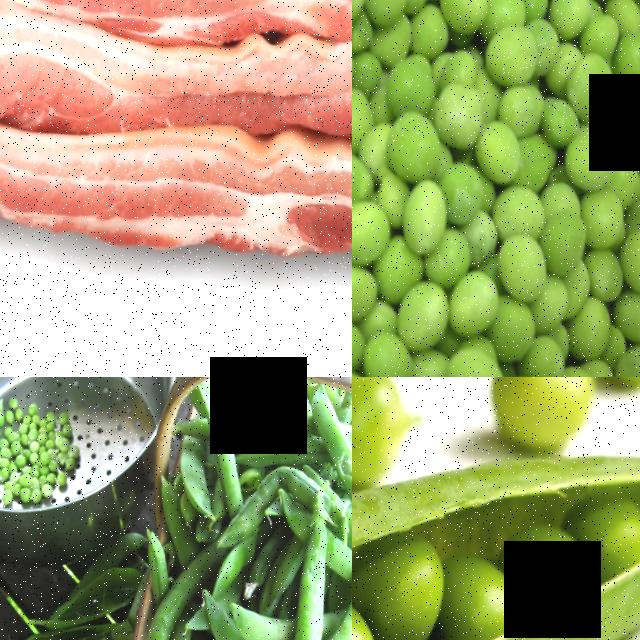peas: (352, 0, 640, 377), (352, 440, 640, 640), (0, 400, 78, 504)
pork belly: (0, 70, 352, 318), (0, 0, 352, 192), (0, 0, 352, 85)
